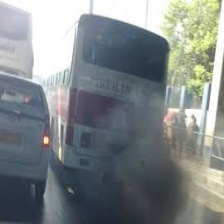smoke: (103, 129, 187, 212)
